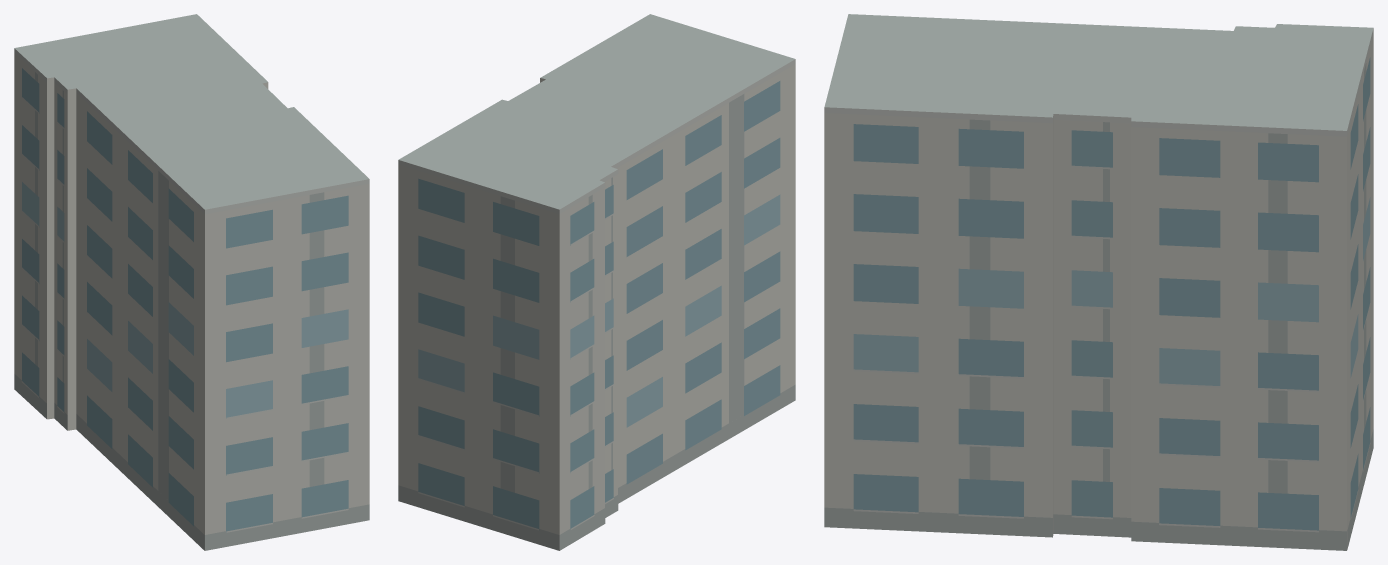
File: survey-upis-32566574.glb
3 renders of one model, left to right at view 1: azimuth 30°, elevation 25°; view 2: azimuth 150°, elevation 25°; view 3: azimuth 270°, elevation 25°, orthographic. The views are drawn at different scales.
Visible parts, largest first — view 1: survey-upis-32566574.tmp; view 2: survey-upis-32566574.tmp; view 3: survey-upis-32566574.tmp.
Part boxes in pixels (<box>): survey-upis-32566574.tmp: <box>14,14,369,550</box>; survey-upis-32566574.tmp: <box>398,14,795,550</box>; survey-upis-32566574.tmp: <box>824,14,1373,550</box>.
Size of the model in its own units: 10.52 by 17.6 by 20.87.
